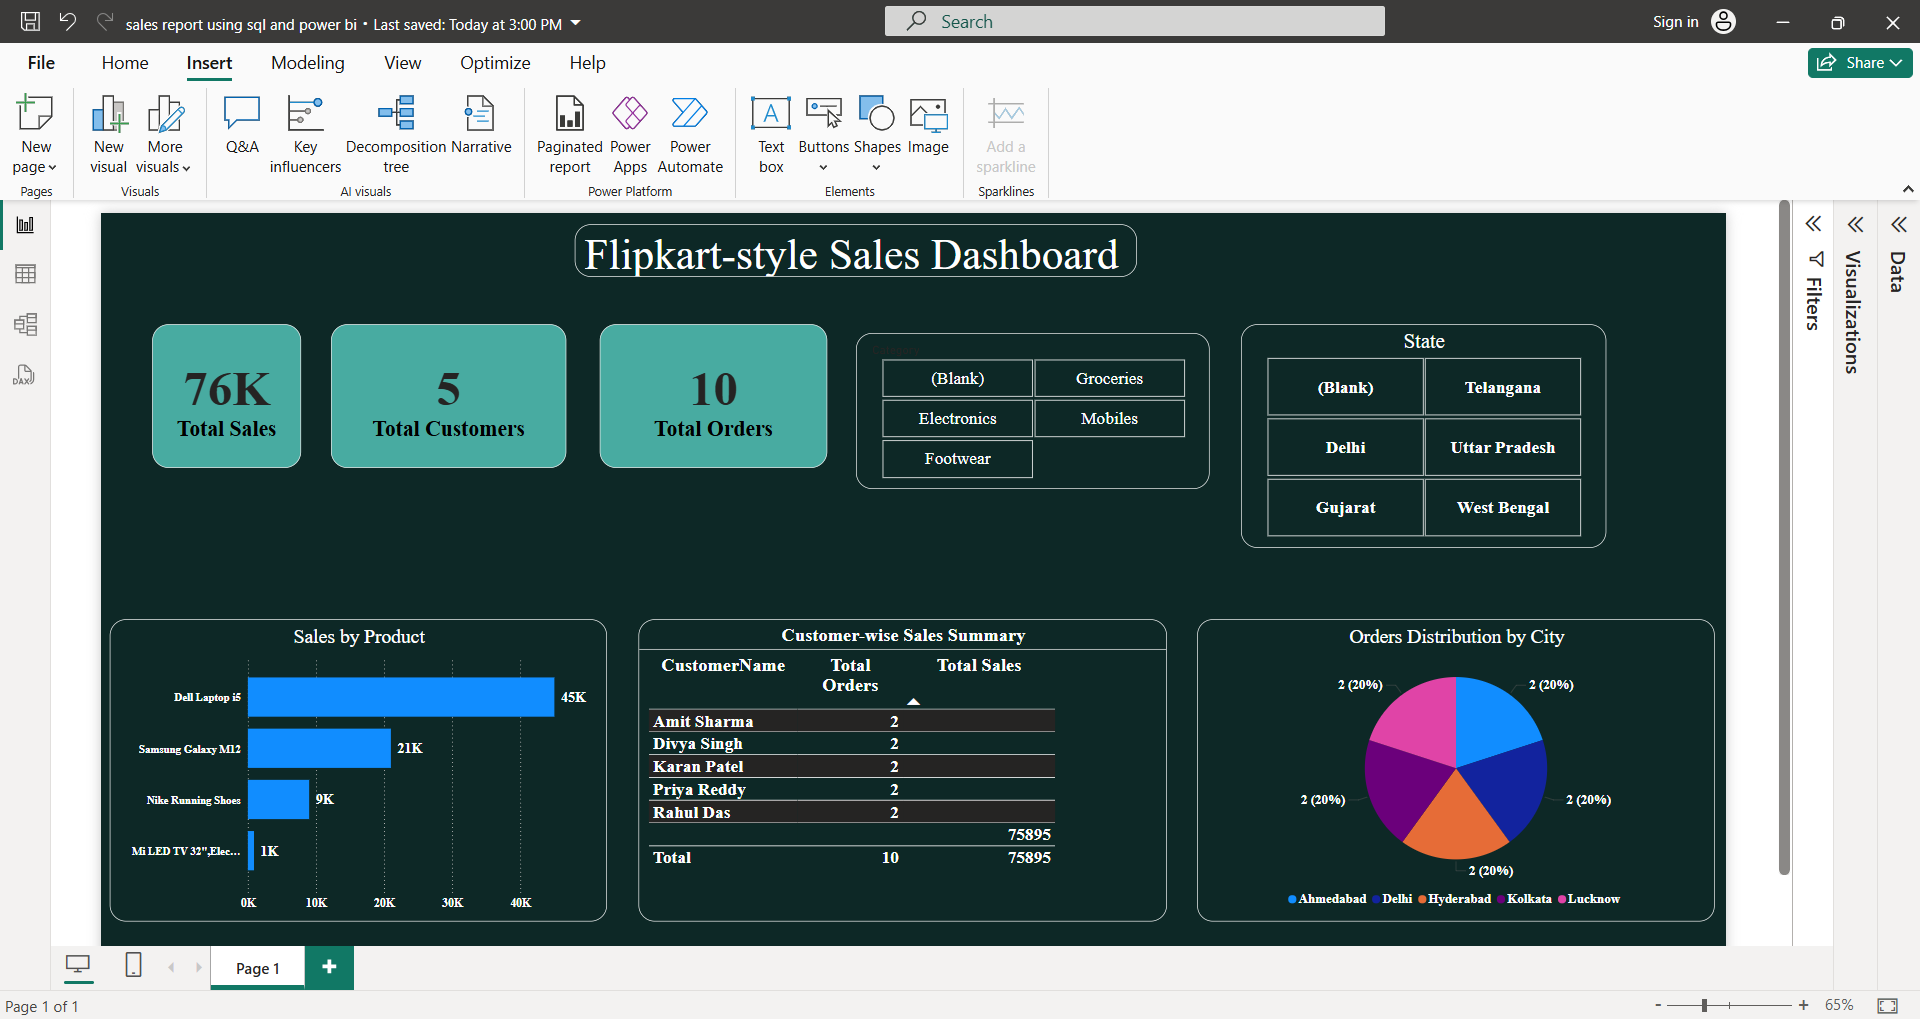

The dashboard page shown, as its layout file describes it:
{"tool":"powerbi","page":{"name":"Page 1","canvas":[2000,1000],"ordinal":0},"visuals":[{"type":"card","fields":{"Values":["Customers.Total Sales"]},"box":[63.1,136.9,183.1,176.9],"z":0},{"type":"card","fields":{"Values":["Customers.Total Customers"]},"box":[283.1,136.9,289.2,176.9],"z":1000},{"type":"card","fields":{"Values":["Customers.Total Orders"]},"box":[613.8,136.9,280,176.9],"z":2000},{"type":"clusteredBarChart","title":"Sales by Product","fields":{"Category":["products csv.ProductName"],"Y":["Customers.Total Sales"]},"box":[10.8,500,612.3,372.3],"z":3000},{"type":"pieChart","title":"Orders Distribution by City","fields":{"Category":["Customers.City"],"Y":["Customers.Total Orders"]},"box":[1349.2,500,636.9,372.3],"z":4000},{"type":"tableEx","title":"Customer-wise Sales Summary","fields":{"Values":["Customers.CustomerName","Customers.Total Orders","Customers.Total Sales"]},"box":[661.5,500,650.8,372.3],"z":5000},{"type":"slicer","fields":{"Values":["products csv.Category"]},"box":[929.2,147.7,435.4,192.3],"z":5001},{"type":"slicer","title":"State","fields":{"Values":["Customers.State"]},"box":[1403.1,136.9,449.2,275.4],"z":5002},{"type":"textbox","title":"Flipkart-style Sales Dashboard","box":[583.1,13.8,692.3,64.6],"z":5003}]}

Visuals, with their boxes on the page's 2000x1000 design canvas (x1, y1, x2, y2). These are canvas units, not pixel positions in the 1920x1019 screenshot, which may show the page scaled, cropped or inside an application window:
card - Customers.Total Sales: {"x1": 63, "y1": 137, "x2": 246, "y2": 314}
card - Customers.Total Customers: {"x1": 283, "y1": 137, "x2": 572, "y2": 314}
card - Customers.Total Orders: {"x1": 614, "y1": 137, "x2": 894, "y2": 314}
"Sales by Product" clusteredBarChart: {"x1": 11, "y1": 500, "x2": 623, "y2": 872}
"Orders Distribution by City" pieChart: {"x1": 1349, "y1": 500, "x2": 1986, "y2": 872}
"Customer-wise Sales Summary" tableEx: {"x1": 662, "y1": 500, "x2": 1312, "y2": 872}
slicer - products csv.Category: {"x1": 929, "y1": 148, "x2": 1365, "y2": 340}
"State" slicer: {"x1": 1403, "y1": 137, "x2": 1852, "y2": 412}
"Flipkart-style Sales Dashboard" textbox: {"x1": 583, "y1": 14, "x2": 1275, "y2": 78}
